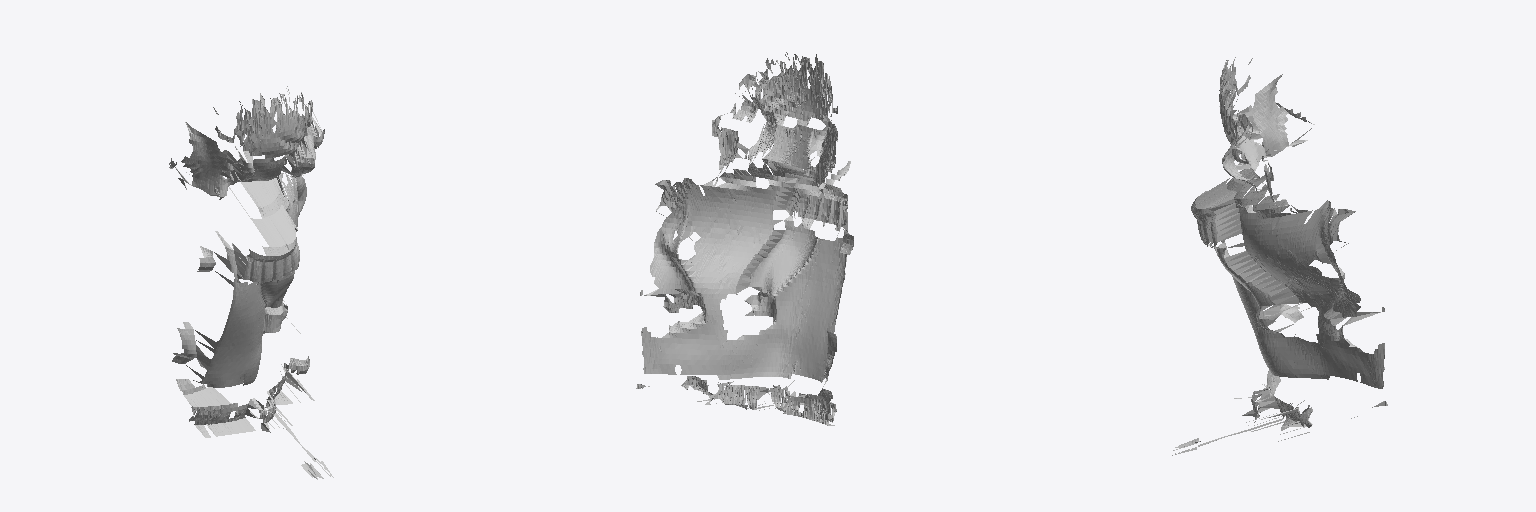
File: frame-S00F38.obj
3 views of the same model, side by side, from view 1: azimuth 30°, elevation 25°; view 2: azimuth 150°, elevation 25°; view 3: azimuth 270°, elevation 25° (orthographic).
Bounding box in the file's own units: 45.37 × 99.08 × 51.62.